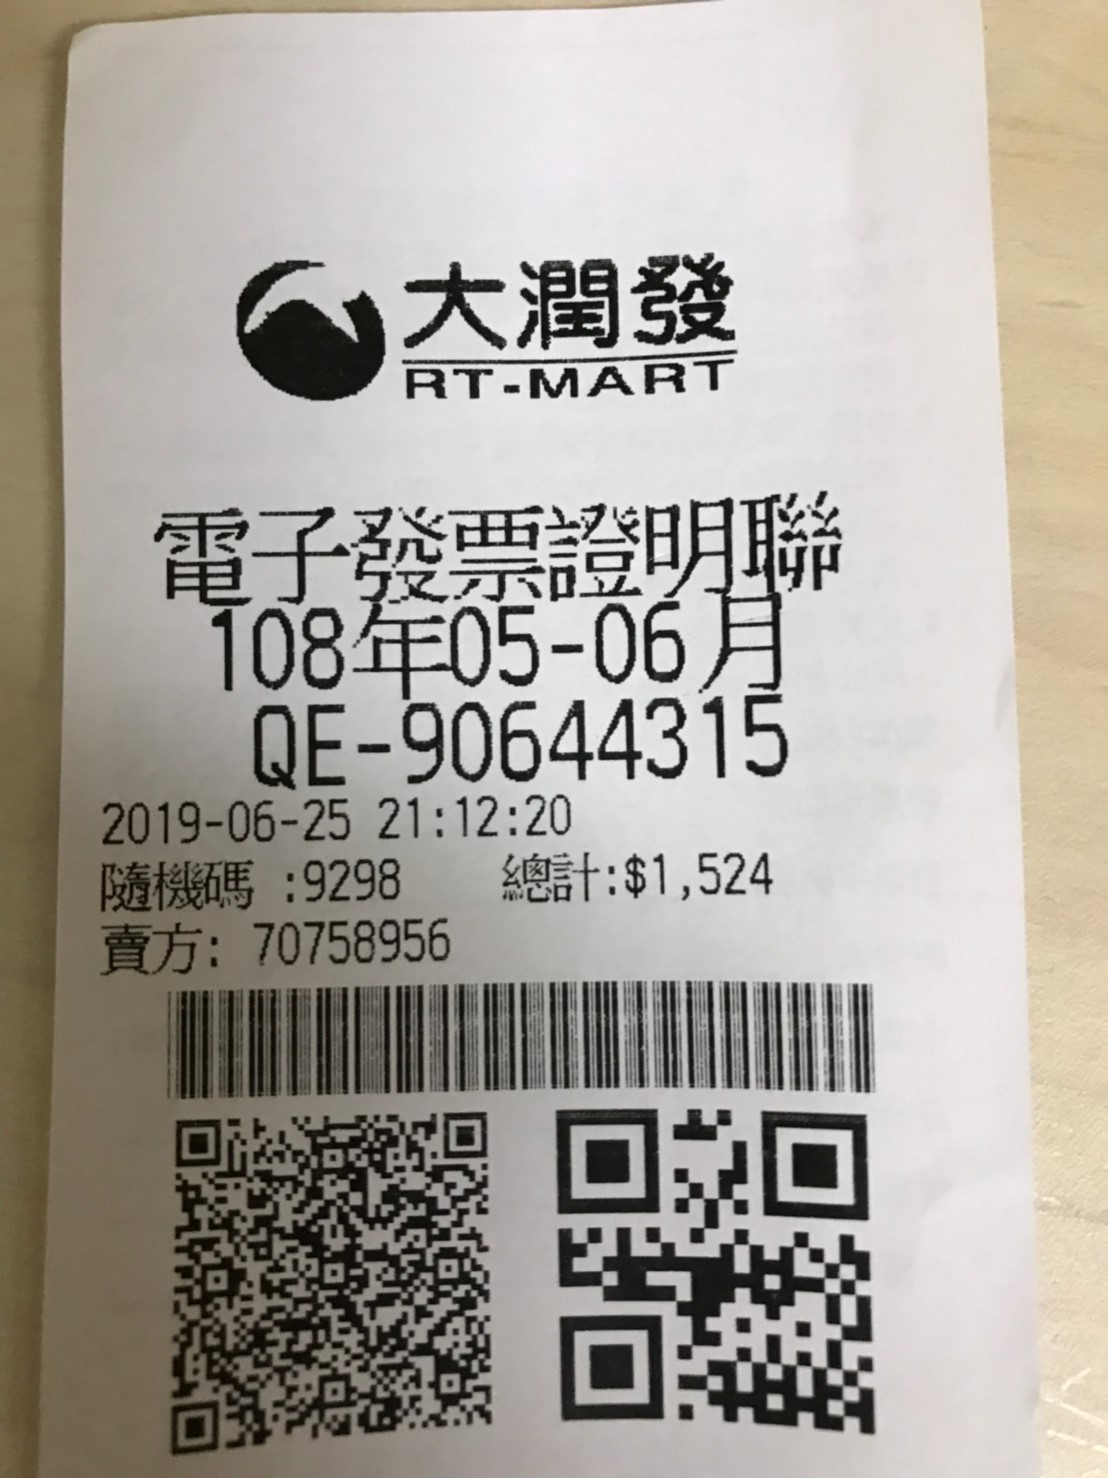Date_New: (213, 591, 783, 695)
Number_New: (399, 690, 789, 783)
